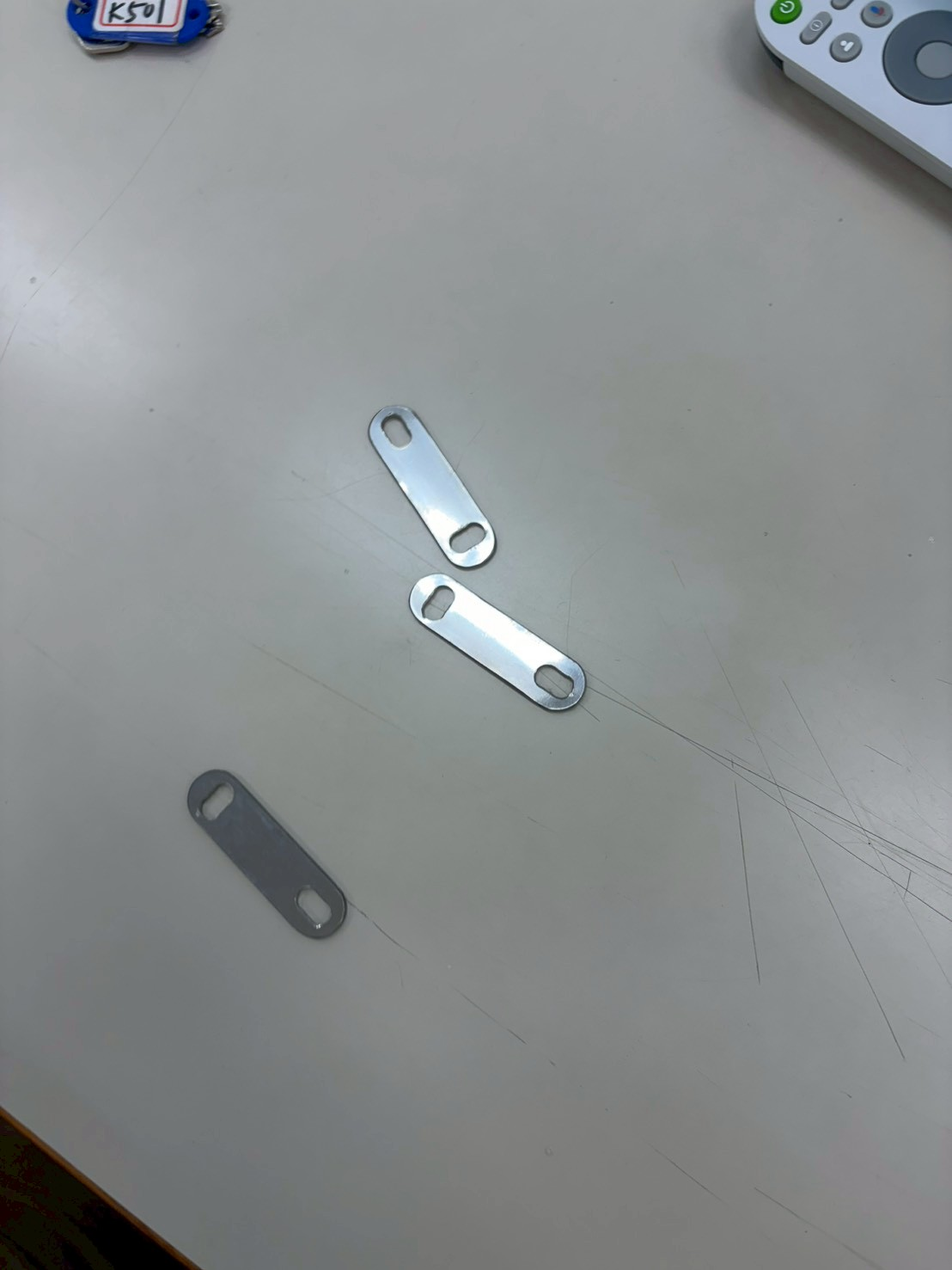Fe: (188, 771, 345, 941), (405, 574, 586, 712), (358, 397, 503, 567)
